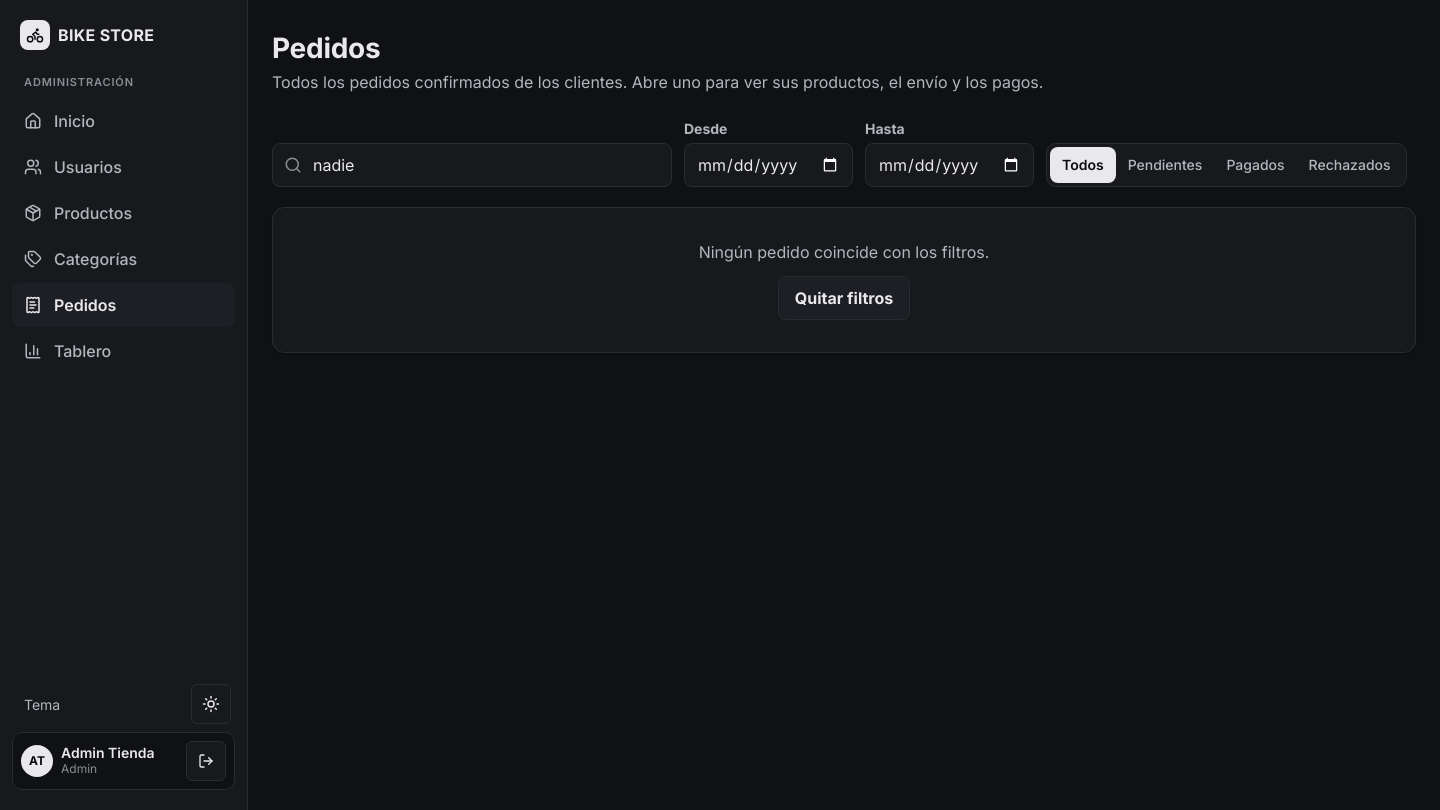
Test: Listado › sin resultados con filtros ofrece quitarlos; sin pedidos lo dice
Expected: the text "Ningún pedido coincide con los filtros." is shown, [699,240,989,264]
Click the button "Quitar filtros": (844, 298) [778,276,910,320]
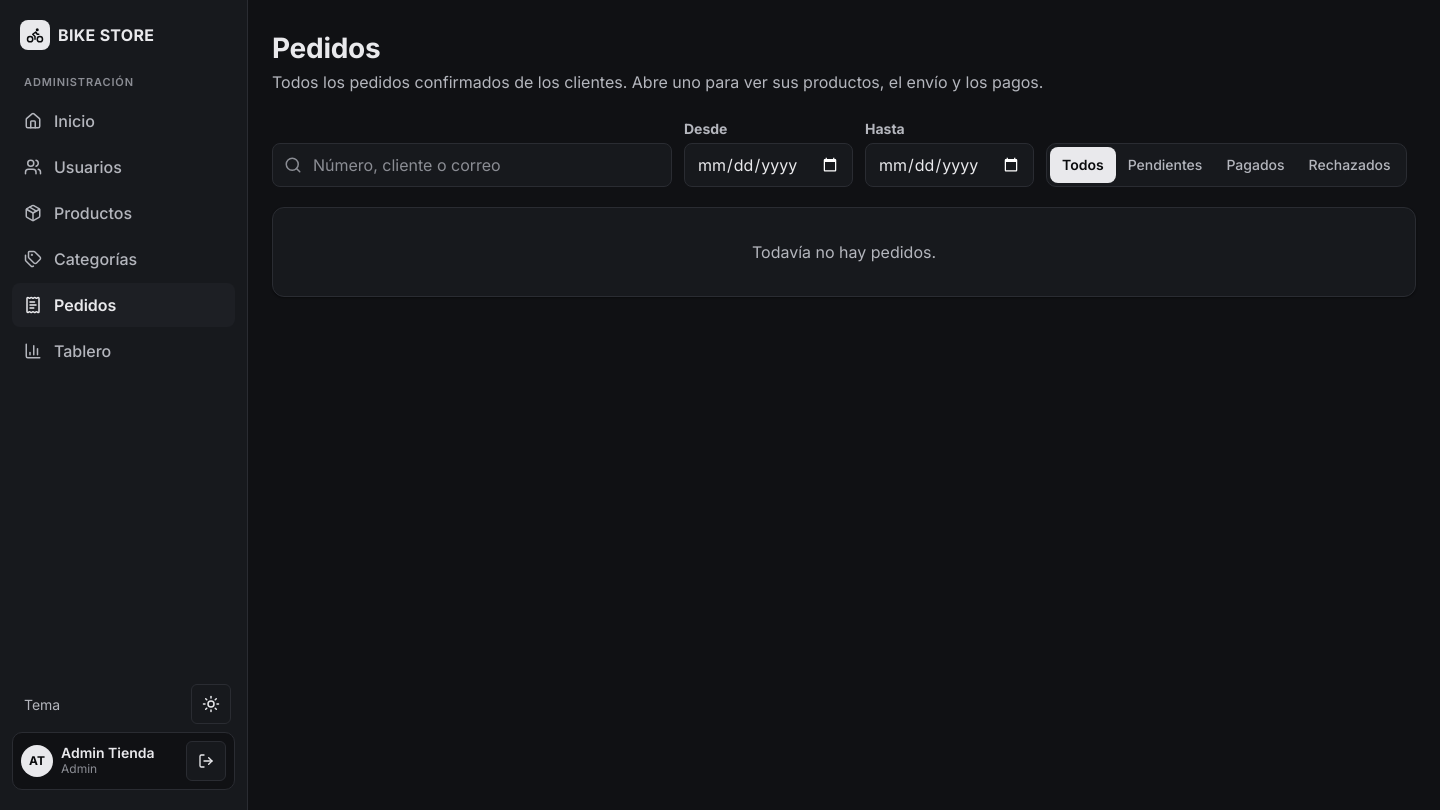
Expected: the text "Todavía no hay pedidos." is shown, [752,240,936,264]
Expected: the search field named "Buscar por número, cliente o correo" is empty, [272,143,672,187]
